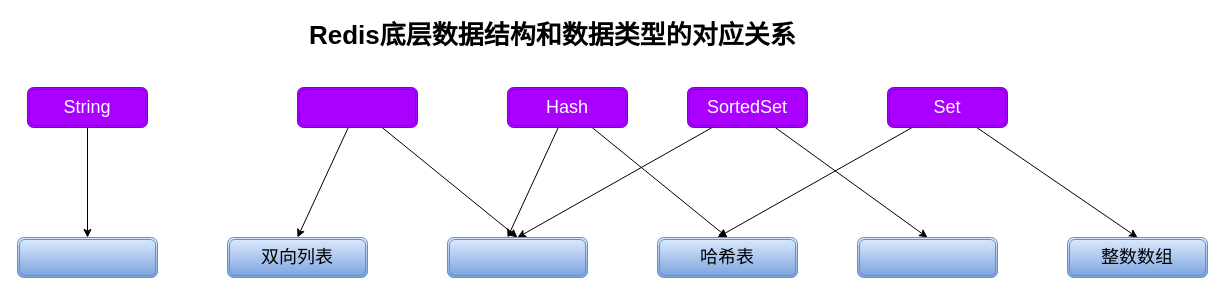
This 1225x295 diagram has some shape labels left out. The shapes that lost their labels are listed below. From the top down, each one's centre as x and y in pixels, then its label:
At point (357, 107): "List".
At point (87, 257): "简单动态字符串".
At point (517, 257): "压缩列表".
At point (927, 257): "跳表".
